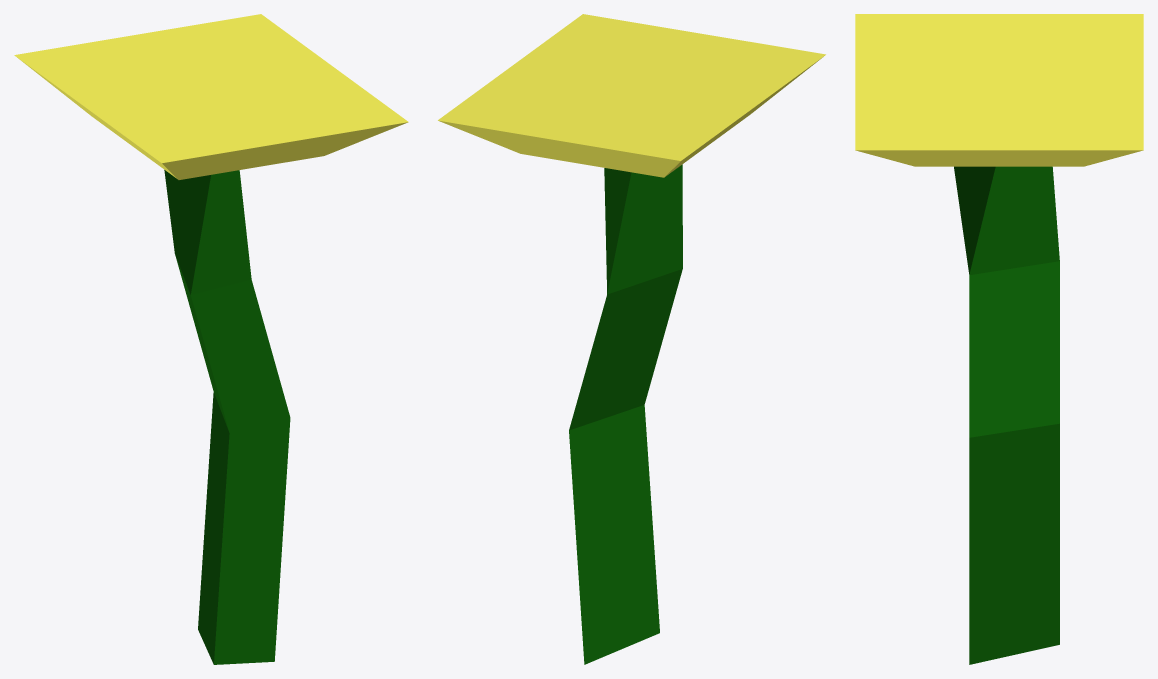
The model's file is BackkgroundFlower.fbx.
3 renders of one model, left to right at view 1: azimuth 30°, elevation 25°; view 2: azimuth 150°, elevation 25°; view 3: azimuth 270°, elevation 25°, orthographic. The views are drawn at different scales.
Visible parts, largest first — view 1: Cube.014; view 2: Cube.014; view 3: Cube.014.
Boxes of the visible parts, box(x1,y1,x2,y2) form: Cube.014: box(14, 14, 408, 664); Cube.014: box(438, 14, 825, 664); Cube.014: box(855, 14, 1143, 664).
Size of the model in its own units: 0.7809 by 1.76 by 0.8085.
